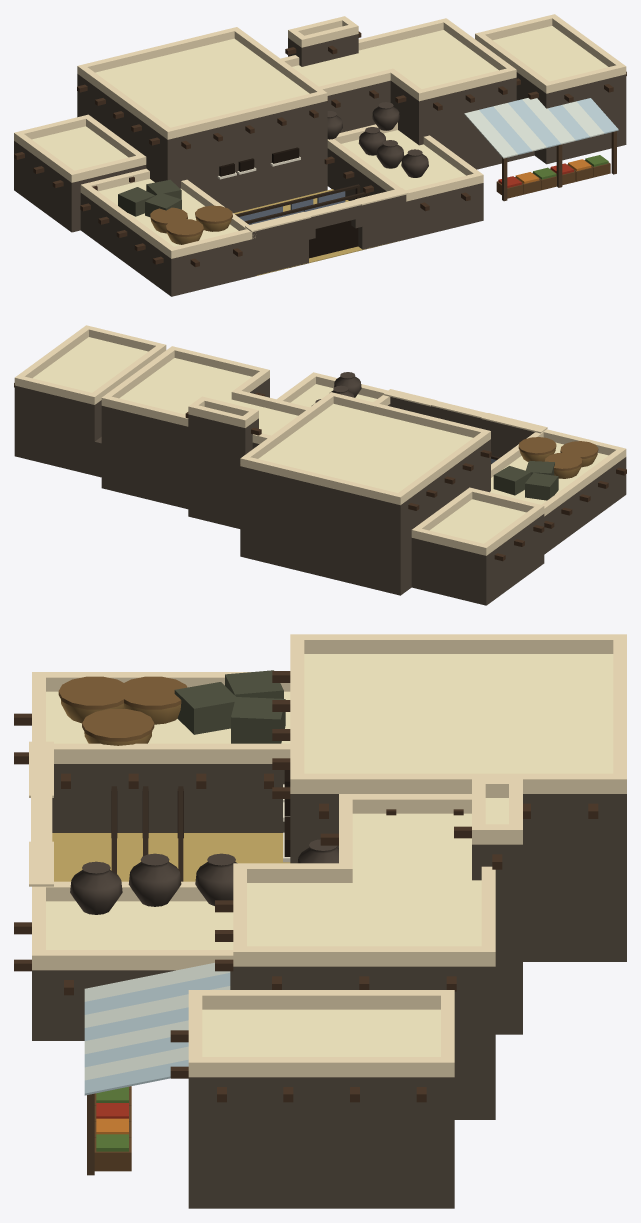
File: VerBuild07.glb
3 renders of one model, top to bottom at view 1: azimuth 30°, elevation 25°; view 2: azimuth 150°, elevation 25°; view 3: azimuth 270°, elevation 25°, orthographic. The views are drawn at different scales.
Parts seen in each view (by area): view 1: VerBuild07_floor; view 2: VerBuild07_floor; view 3: VerBuild07_floor.
Boxes of the visible parts, box(x1,y1,x2,y2) form: VerBuild07_floor: box(14, 14, 626, 296); VerBuild07_floor: box(14, 325, 626, 605); VerBuild07_floor: box(14, 634, 626, 1208).
Bounding box in the file's own units: 18.39 × 3.7 × 10.04.
